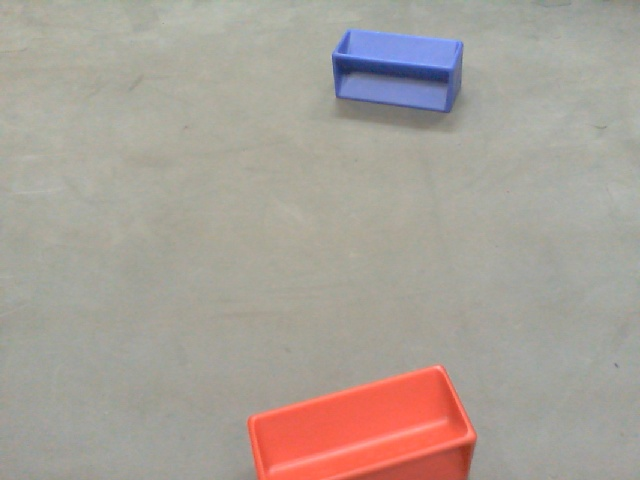BlueSample: (329, 26, 468, 120)
RedSample: (242, 362, 480, 480)
